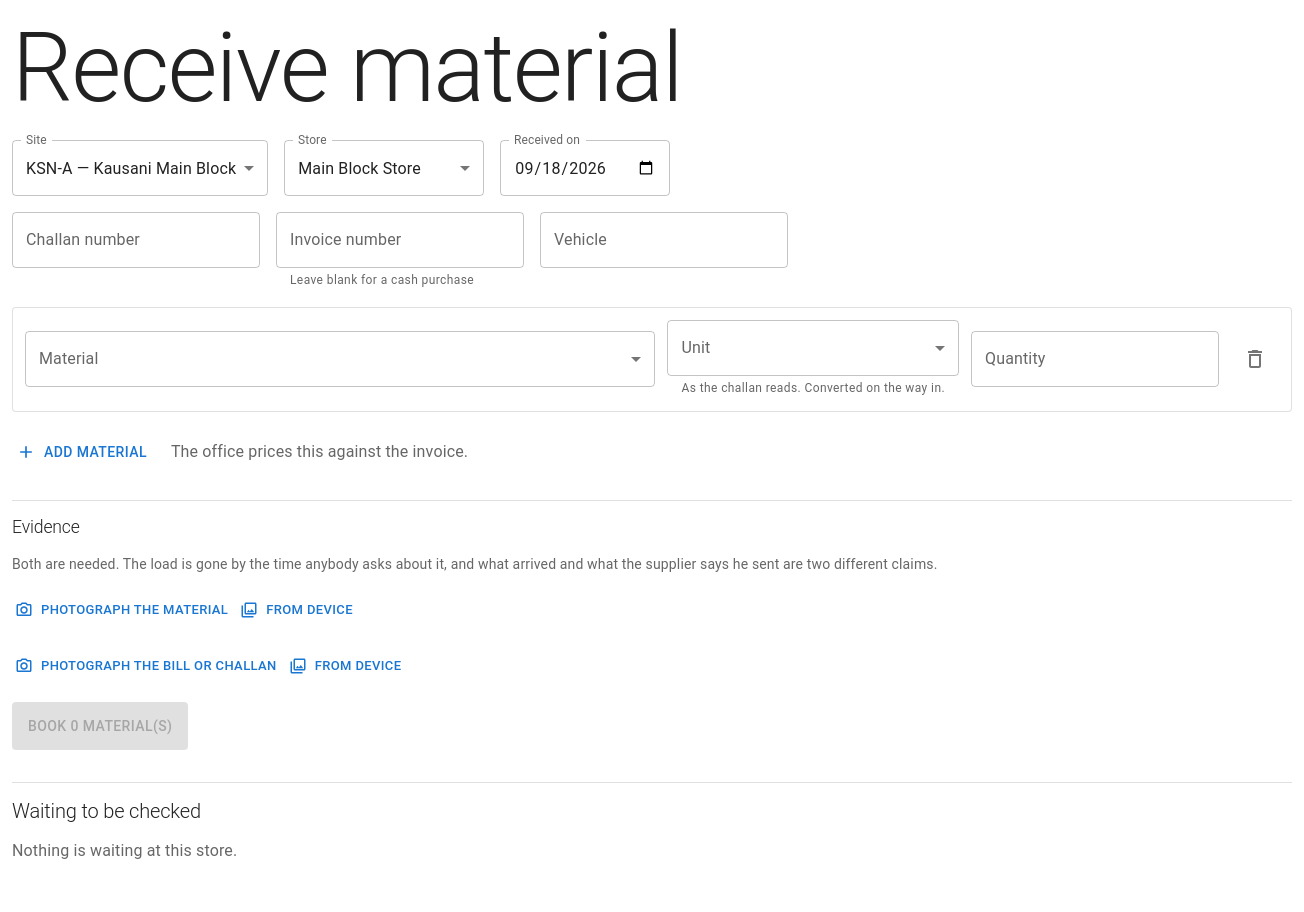
ReceiveMaterialPage › offers only the units a material can actually be booked in
Click the 2nd dropdown named "Material".
click(340, 359)  # box x1=25 y1=331 x2=656 y2=387
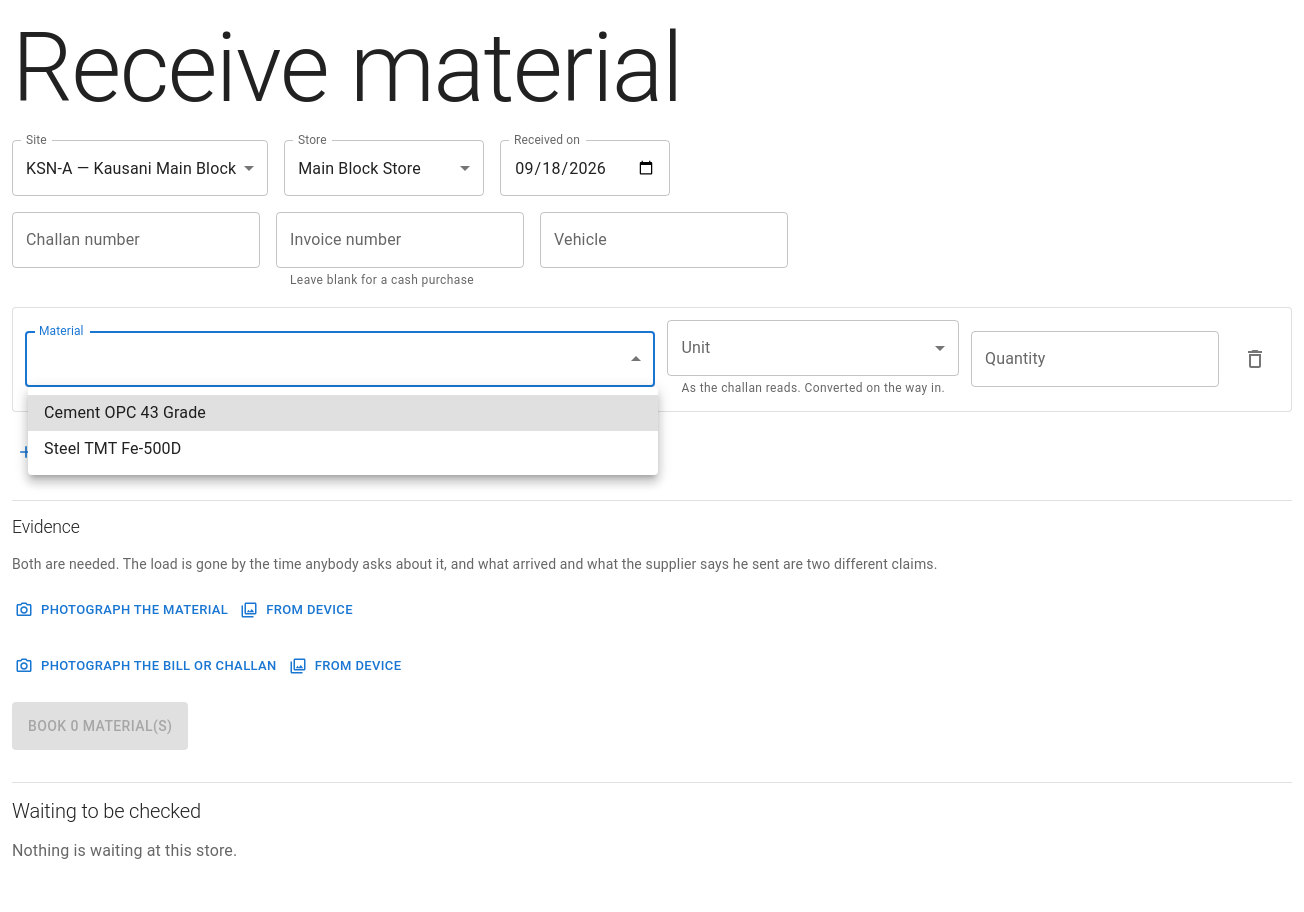
Click the option "Cement OPC 43 Grade".
click(125, 412)  # box x1=28 y1=395 x2=658 y2=431
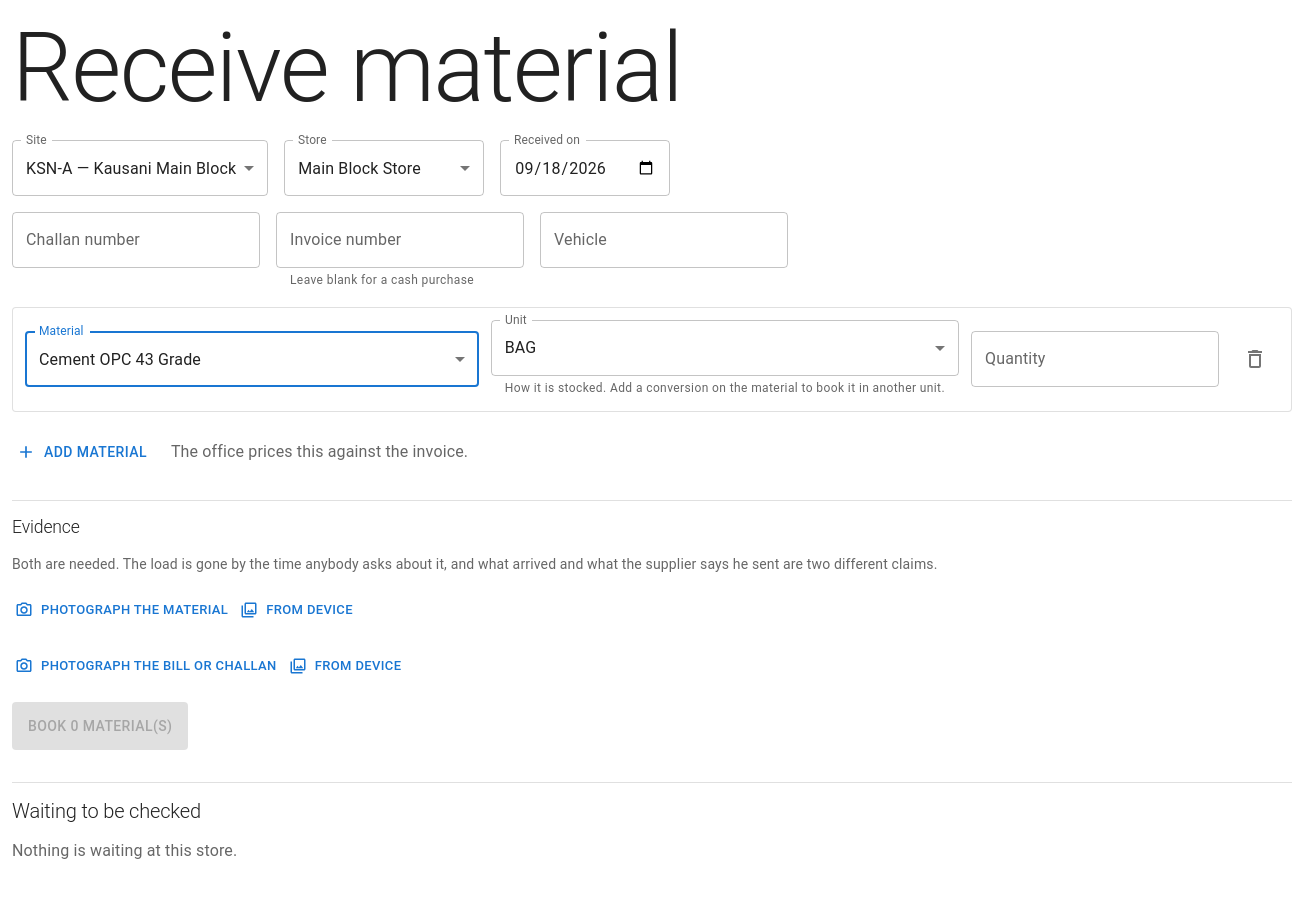
Click the dropdown named "Unit".
click(521, 348)  # box x1=505 y1=338 x2=536 y2=357
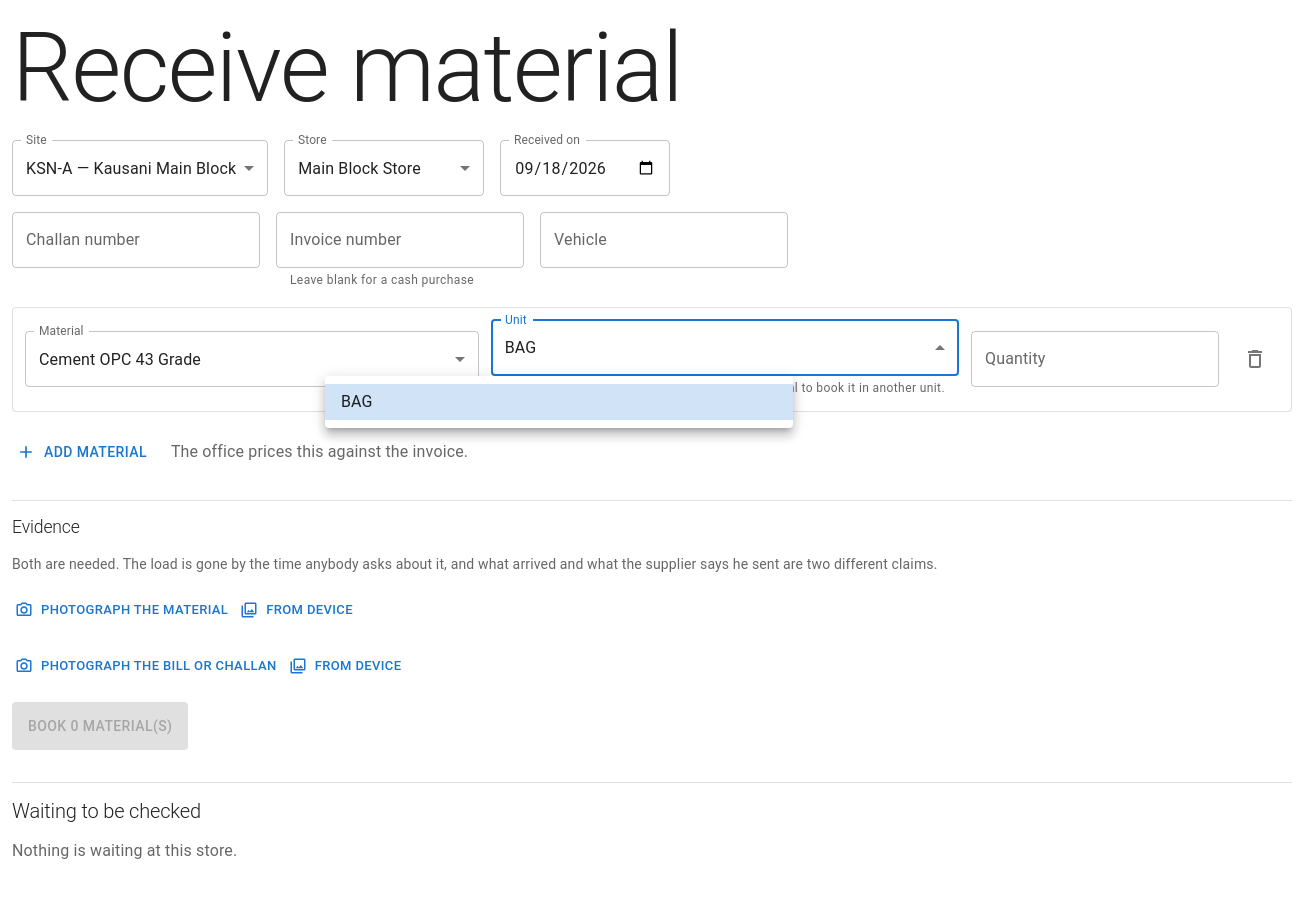
Result: the options read "BAG", in this order at x1=325 y1=384 x2=793 y2=420
